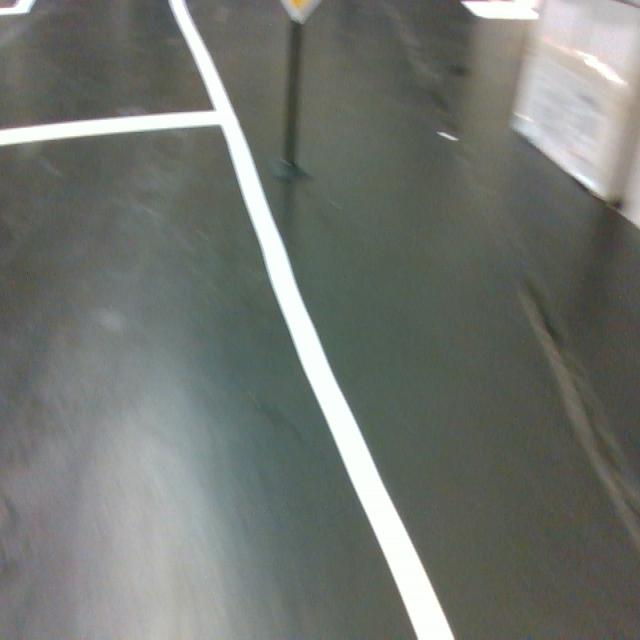priority-sign: (277, 0, 322, 26)
